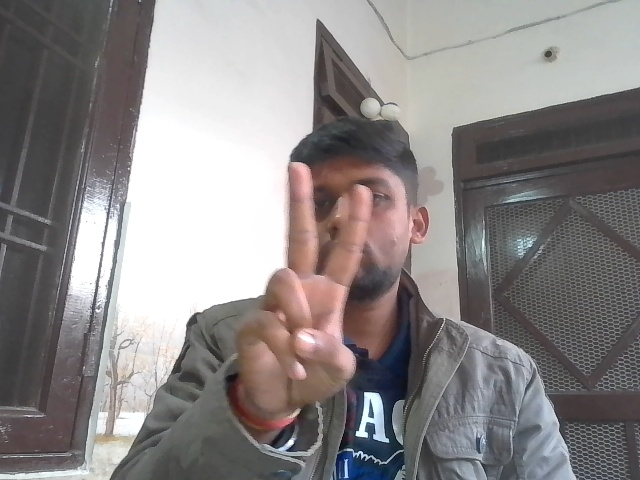Enjoy: (235, 162, 369, 414)
